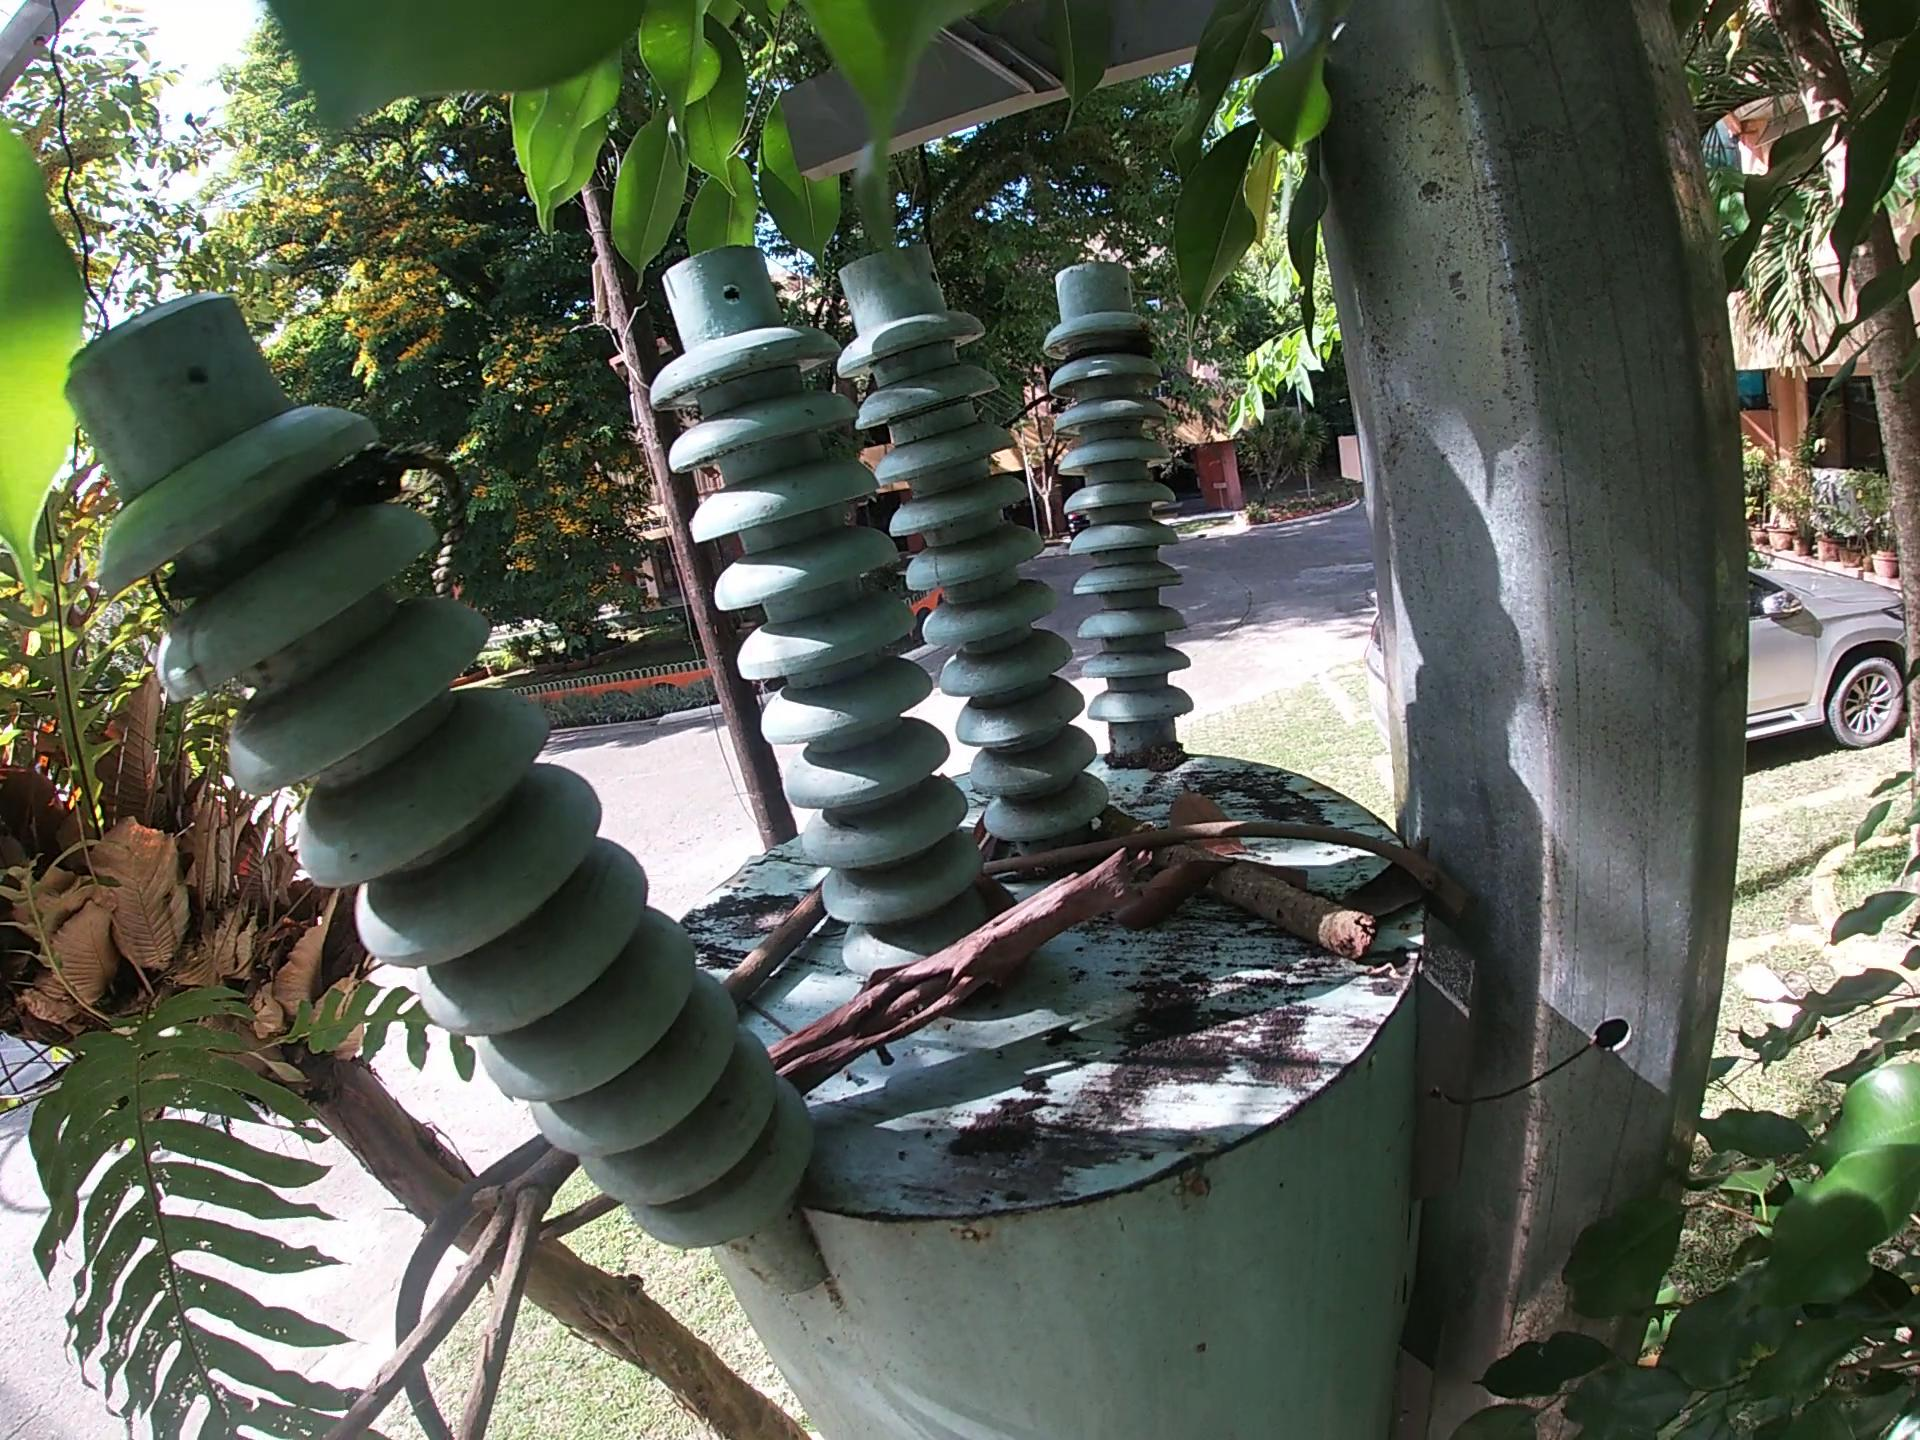leaf: (1330, 824, 1445, 929), (1125, 850, 1226, 938), (1161, 776, 1256, 861)
tree branch: (760, 841, 1155, 1088), (314, 1142, 591, 1438), (974, 815, 1486, 924), (1095, 799, 1397, 965), (715, 871, 841, 1016)
